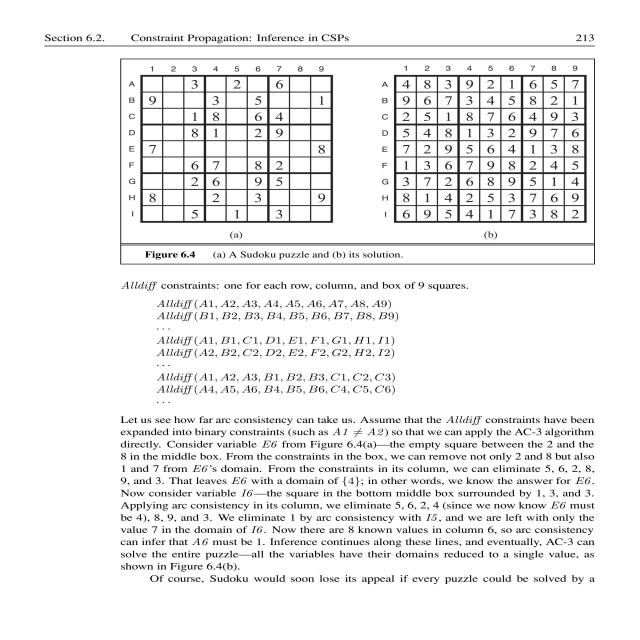diagram: (55, 49, 634, 271)
